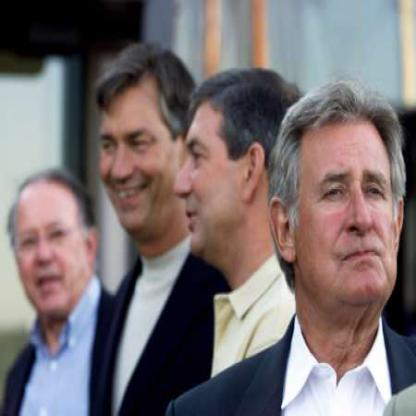face: (291, 96, 401, 314), (163, 71, 253, 260), (96, 60, 181, 237), (13, 177, 87, 315)
